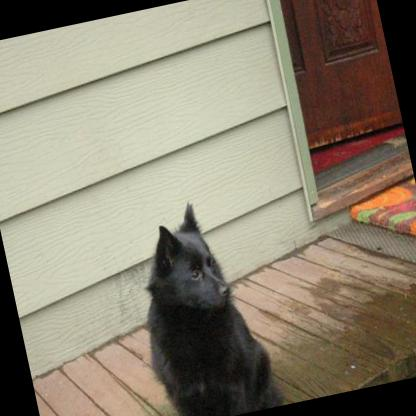schipperke: (117, 188, 280, 416)
